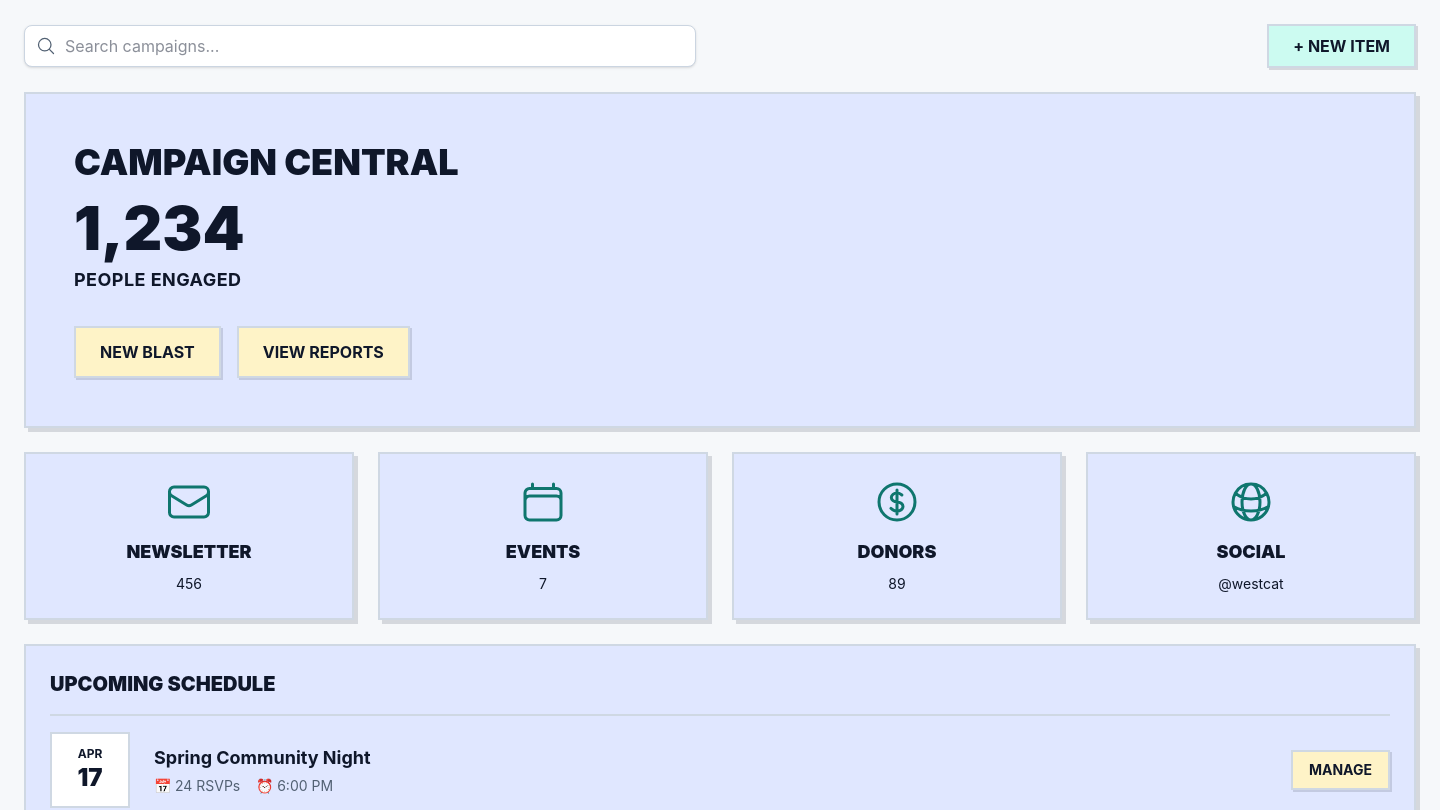
it: OutreachCenterPage › filters visible outreach rows by title
The image size is (1440, 810).
Expected: the heading "Spring Community Night" is shown, [154,744,371,772]
Type "volunteer" into the search field named "search outreach campaigns". click: (360, 46)
box: [24,25,696,67]
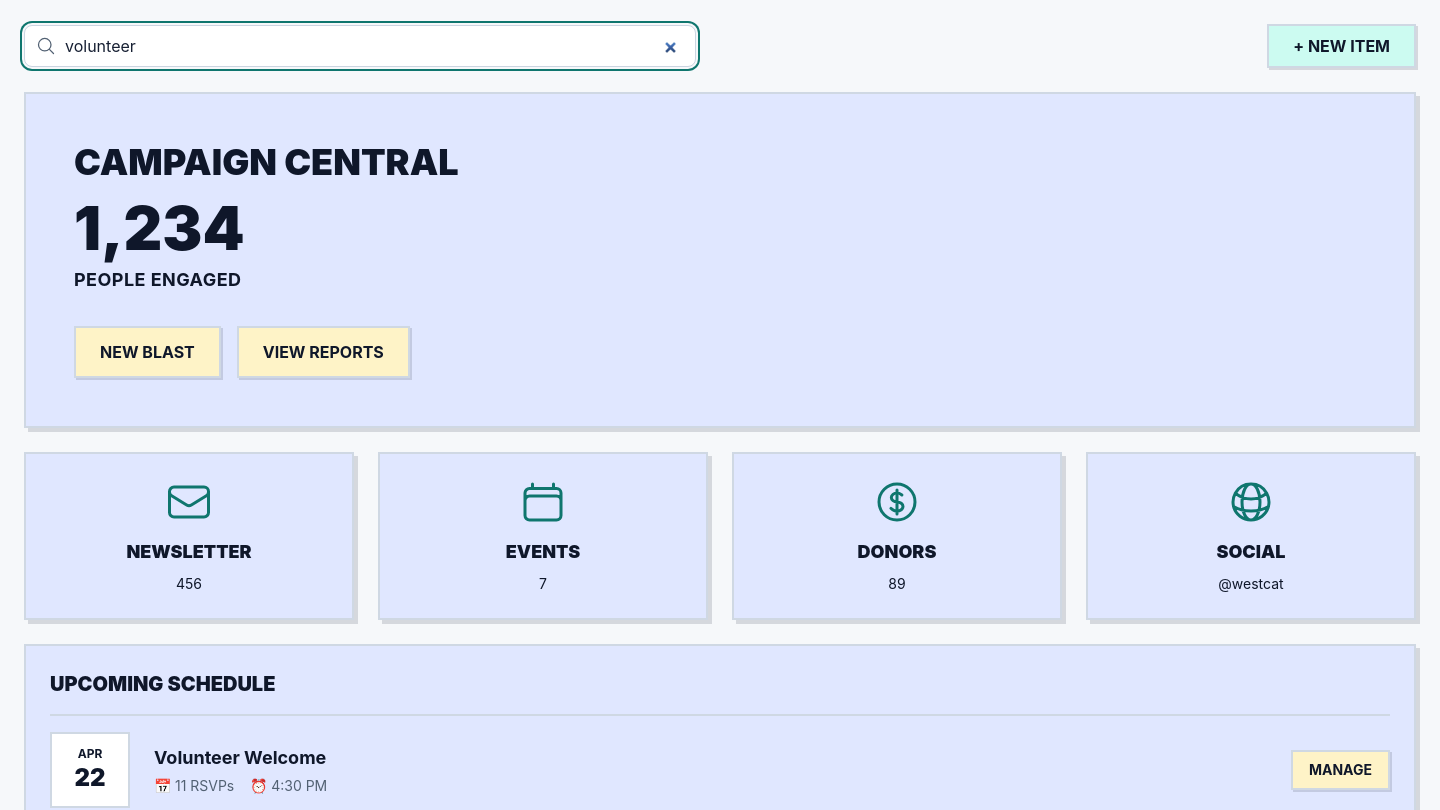
Expected: the heading "Volunteer Welcome" is shown, [154,744,327,772]
Result: the heading "Spring Community Night" is gone
